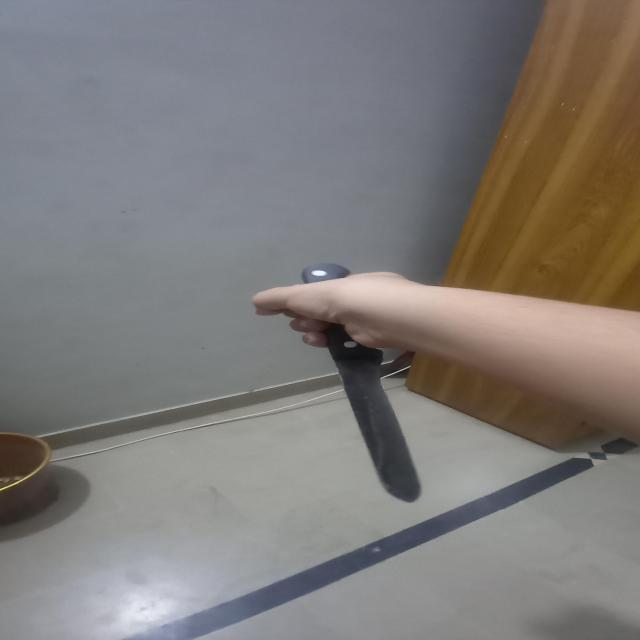Knife: (306, 263, 424, 502)
Person: (249, 272, 640, 444)
